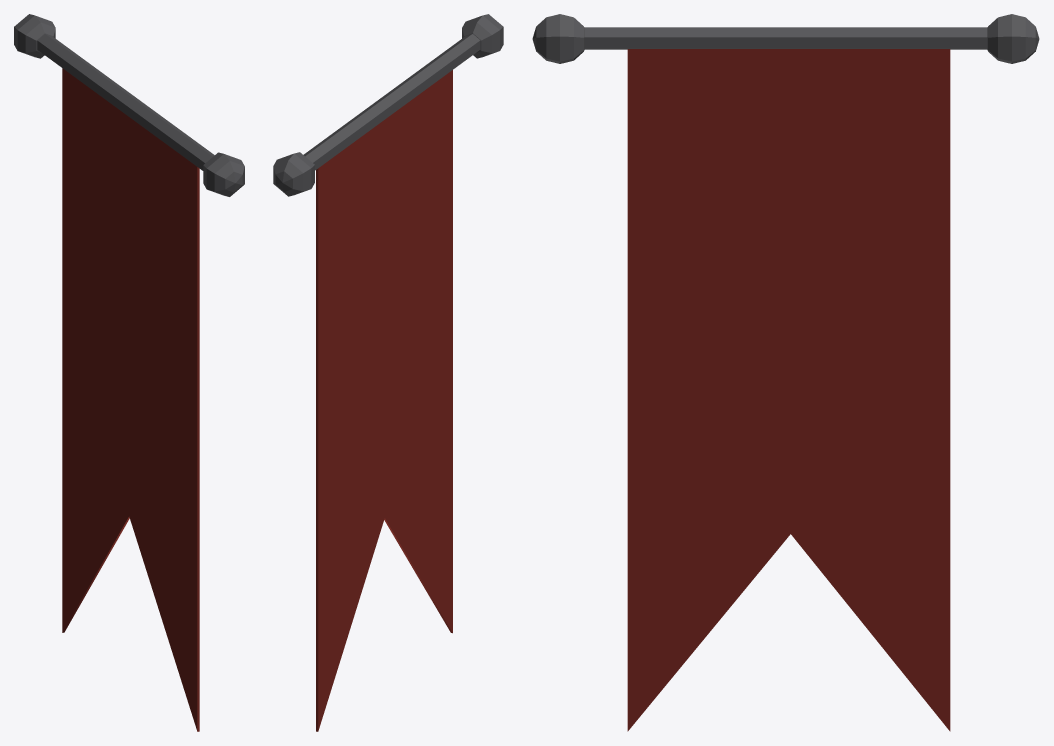
File: Banderin.fbx
The picture shows the model from 3 angles, left to right: view 1: azimuth 30°, elevation 25°; view 2: azimuth 150°, elevation 25°; view 3: azimuth 270°, elevation 25°; orthographic projection. The views are drawn at different scales.
Parts seen in each view (by area): view 1: polySurface484; view 2: polySurface484; view 3: polySurface484.
Part boxes in pixels (left/top/right/bottom): polySurface484: left=14, top=14, right=244, bottom=731; polySurface484: left=273, top=14, right=503, bottom=731; polySurface484: left=532, top=14, right=1039, bottom=731.
Size of the model in its own units: 1.05 by 17.38 by 11.16.
